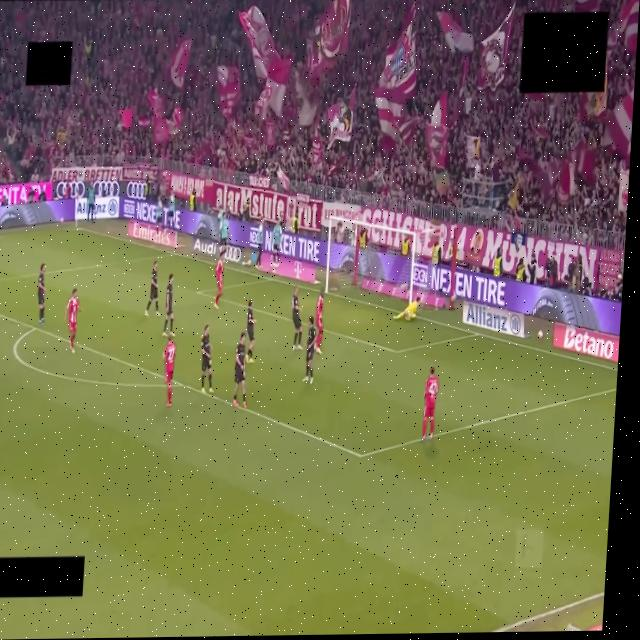player: (422, 367, 438, 440), (64, 288, 81, 353), (302, 316, 317, 384), (233, 332, 246, 408), (163, 335, 175, 406), (201, 325, 213, 394), (145, 261, 160, 316), (163, 274, 174, 337), (291, 287, 302, 349), (246, 300, 256, 363), (394, 297, 420, 321), (214, 251, 224, 308), (316, 289, 324, 354), (37, 263, 45, 324)
